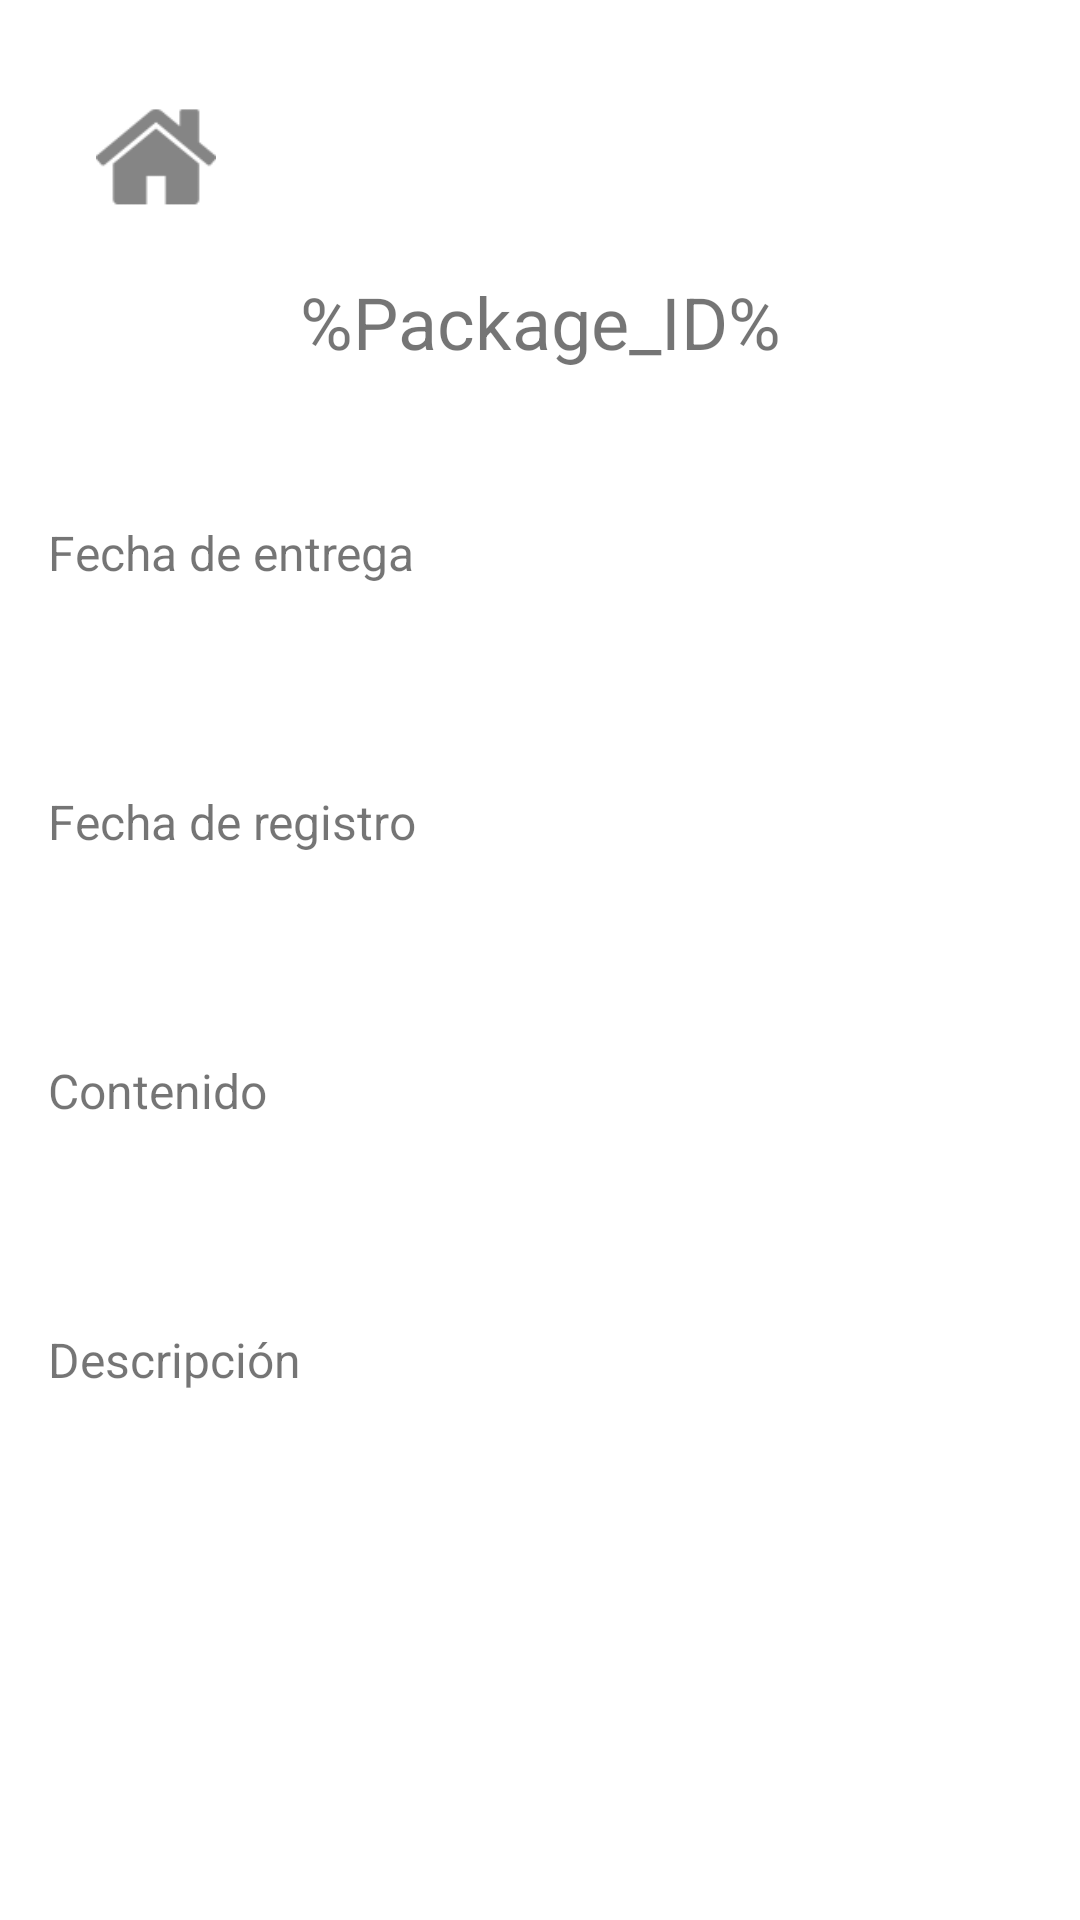

Icon click points for this 1080px×1920px phone screenshot, format point (x, y):
home: point (156, 157)
